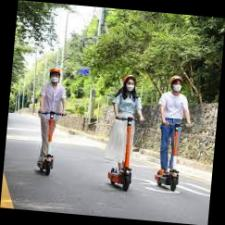helmet: (150, 74, 196, 193), (102, 73, 145, 192), (29, 65, 68, 178)
